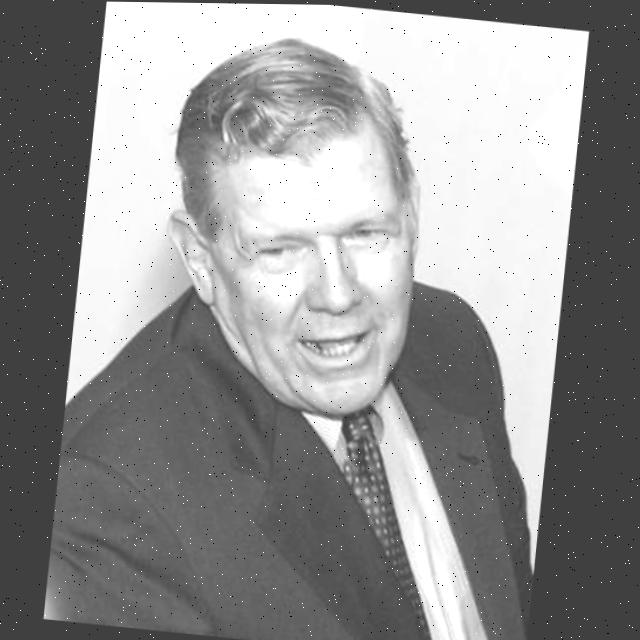face: (150, 88, 444, 437)
